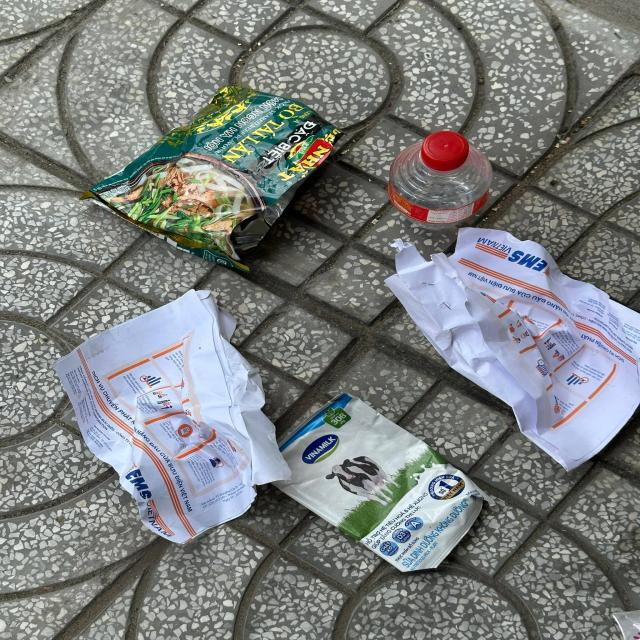bottle: (387, 130, 493, 230)
packet: (269, 391, 497, 573)
paper: (384, 227, 640, 472), (52, 288, 293, 545)
snack package: (79, 85, 348, 272)
